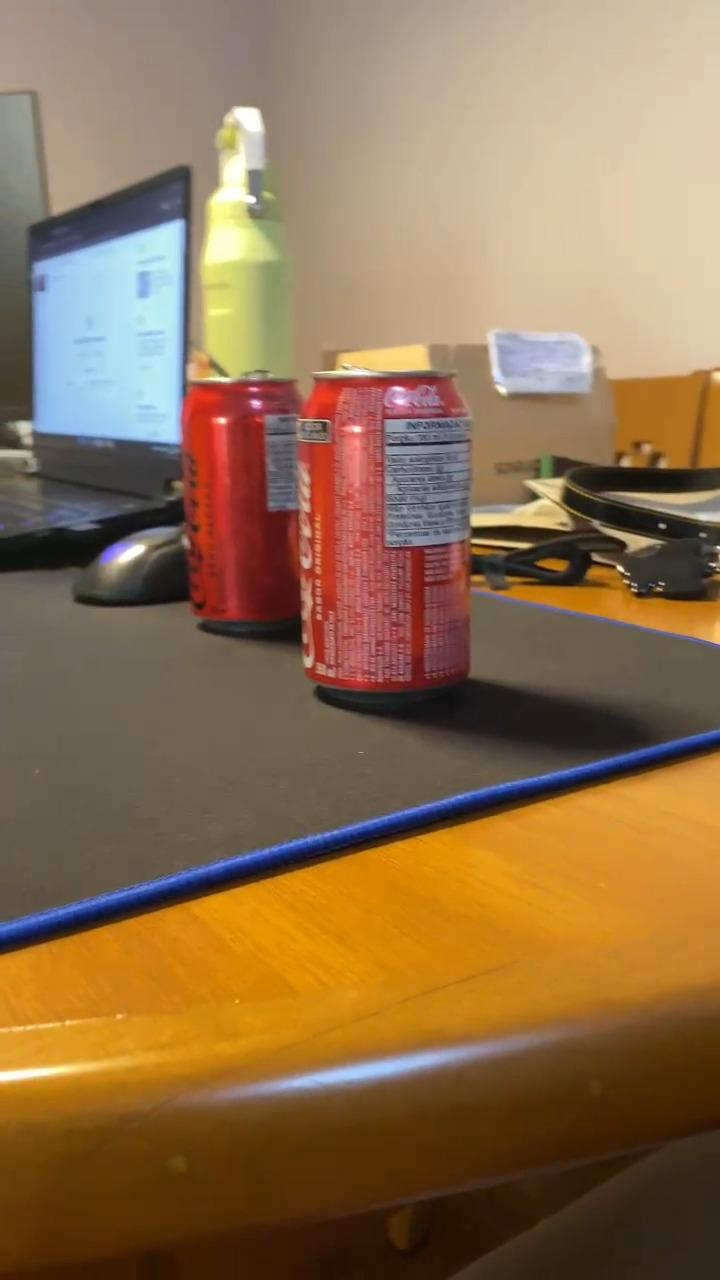coke: (295, 366, 473, 709), (179, 371, 310, 635)
